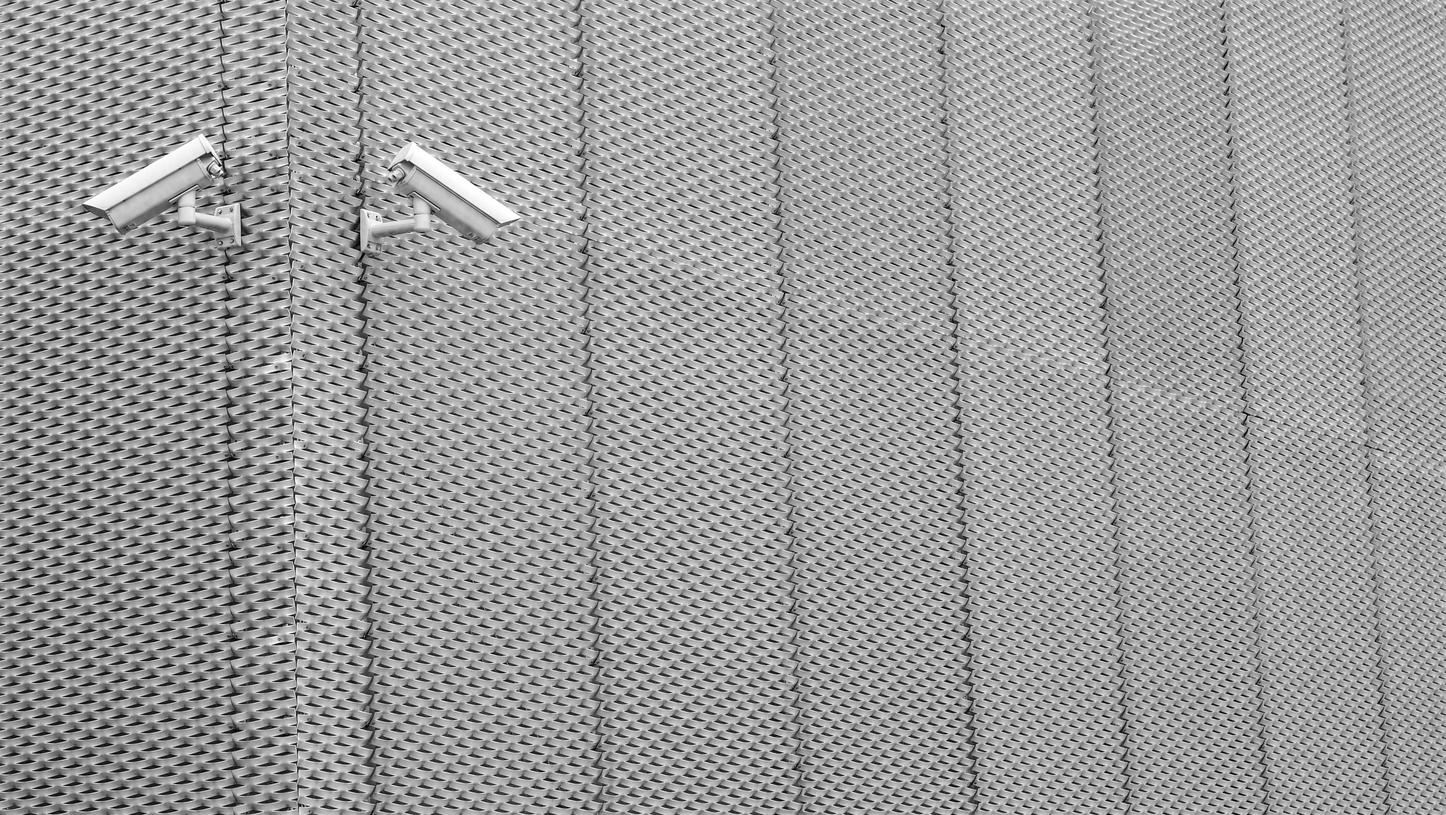camera: (50, 90, 264, 296), (341, 124, 545, 282)
